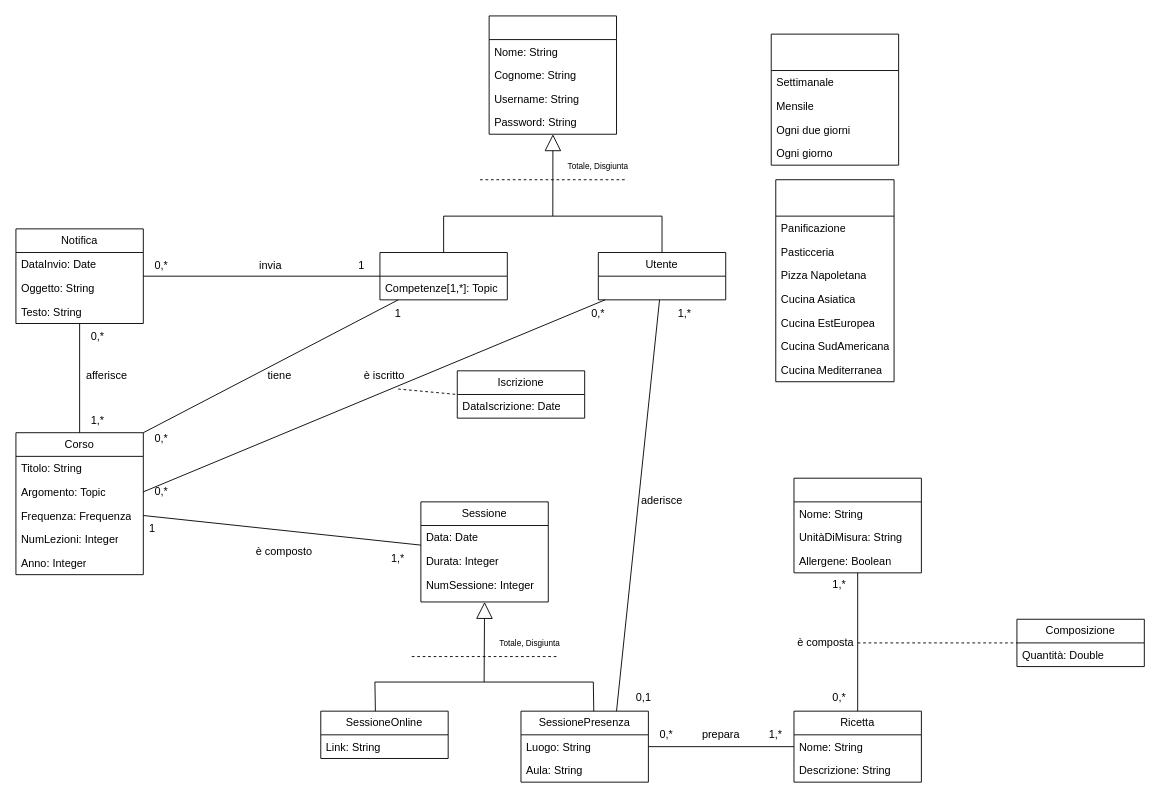
The diagram is 1160 pixels wide and 801 high, and some of its shapes have lost their labels. The box of each missing label's shape, as (x1, y1, x2, y2) in pixels:
<<enum>> Frequenza: (770, 33, 899, 165)
<<enum>> Topic: (775, 179, 894, 382)
Chef: (379, 252, 507, 300)
Ingredienti: (793, 477, 921, 573)
Persona: (488, 15, 617, 134)
